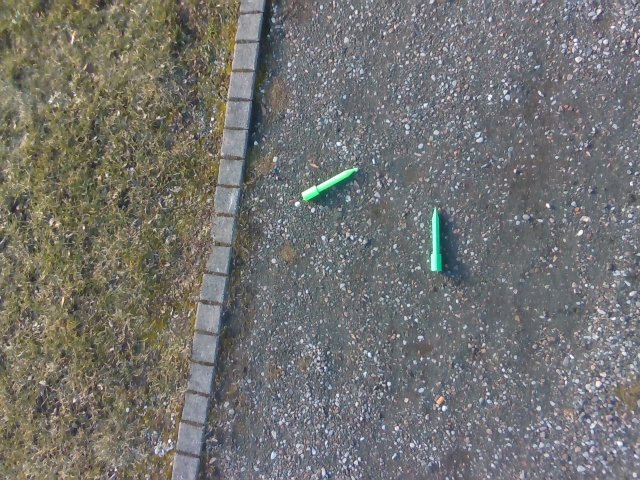Probe: (297, 163, 364, 204), (425, 201, 448, 275)
